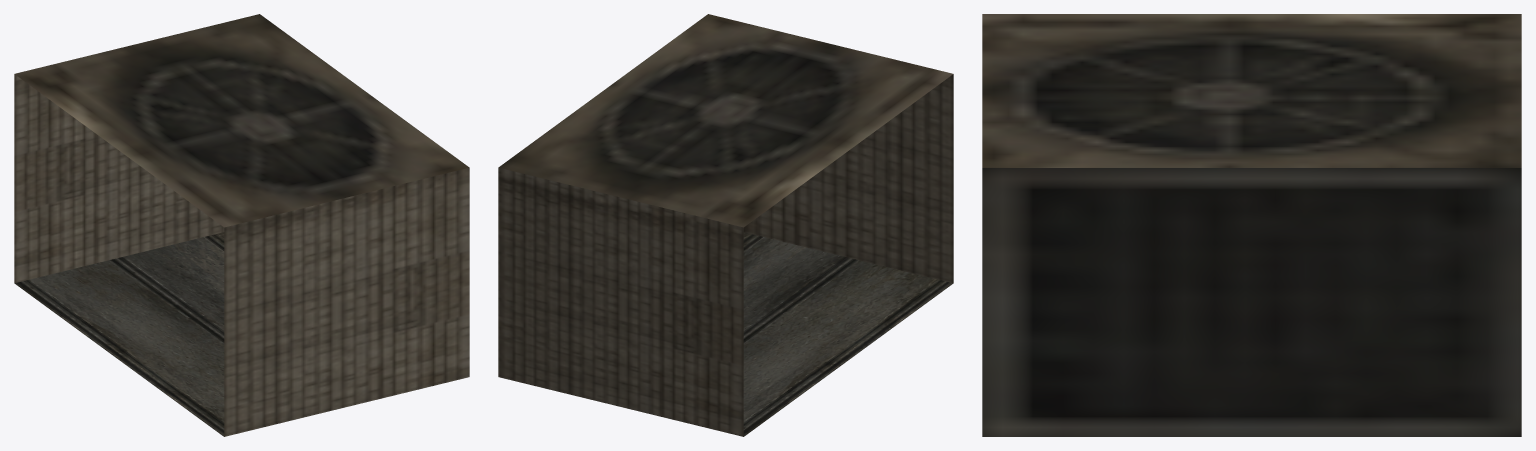
File: AirCond.fbx
3 renders of one model, left to right at view 1: azimuth 30°, elevation 25°; view 2: azimuth 150°, elevation 25°; view 3: azimuth 270°, elevation 25°, orthographic. The views are drawn at different scales.
Parts seen in each view (by area): view 1: AirConditioner; view 2: AirConditioner; view 3: AirConditioner.
Boxes of the visible parts, x1,y1,x2,y2 form: AirConditioner: [14, 14, 469, 436]; AirConditioner: [498, 14, 953, 436]; AirConditioner: [982, 14, 1521, 436].
Size of the model in its own units: 0.221 by 0.1802 by 0.3273.
